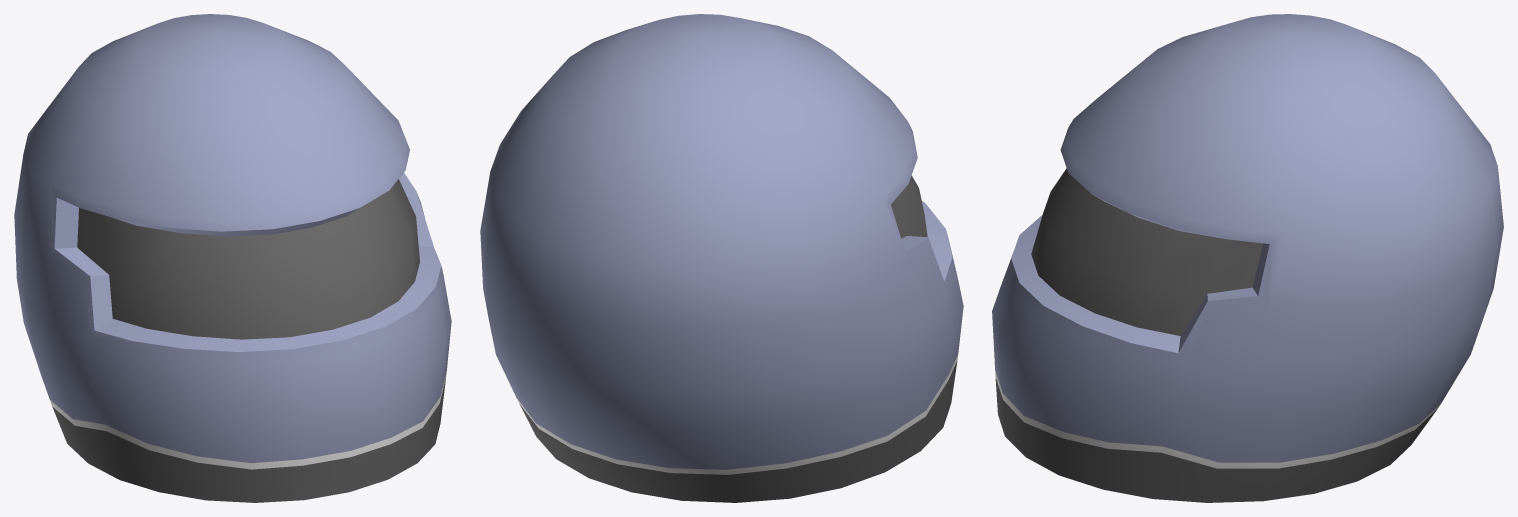
The model's file is Helmet_1.fbx.
3 views of the same model, side by side, from view 1: azimuth 30°, elevation 25°; view 2: azimuth 150°, elevation 25°; view 3: azimuth 270°, elevation 25° (orthographic). The views are drawn at different scales.
Visible parts, largest first — view 1: Helmet_1; view 2: Helmet_1; view 3: Helmet_1.
Boxes of the visible parts, box(x1,y1,x2,y2) form: Helmet_1: box(14, 14, 451, 502); Helmet_1: box(480, 14, 963, 502); Helmet_1: box(992, 14, 1503, 502).
Size of the model in its own units: 0.2881 by 0.2804 by 0.3336.
